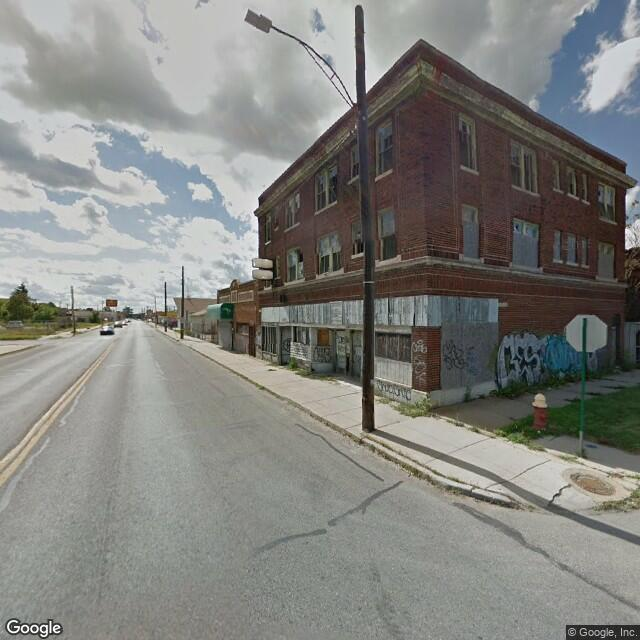litter: (535, 427, 542, 435)
